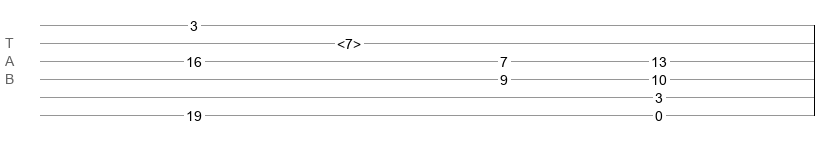0: (655, 108, 663, 118)
10: (651, 72, 667, 82)
13: (651, 54, 667, 64)
16: (186, 54, 202, 64)
19: (186, 108, 202, 118)
3: (190, 18, 198, 28), (655, 90, 663, 100)
7: (500, 54, 508, 64)
9: (500, 72, 508, 82)
harmonic: (337, 36, 361, 46)
